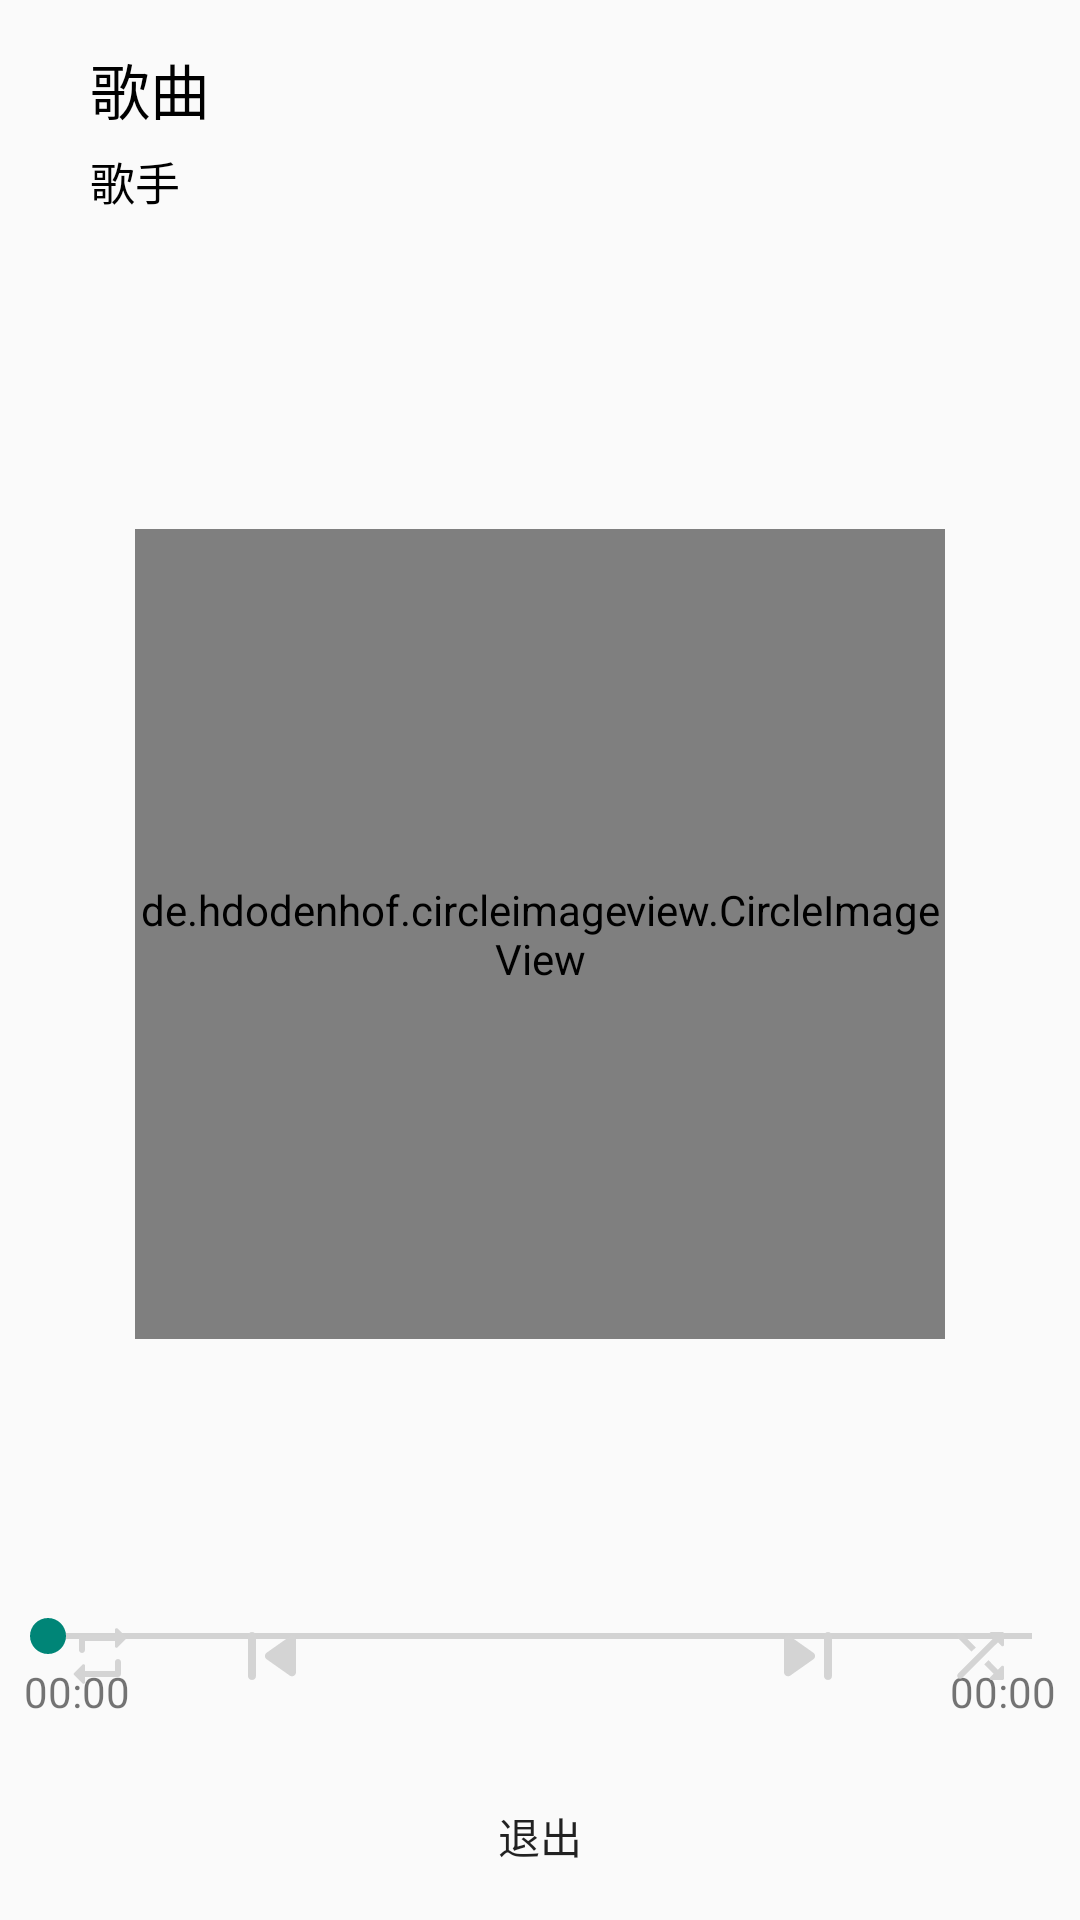

Screen size 1080 × 1920. Icon name, then its box in pixels as (x1, y1, x2, y2):
上一首: (224, 1632, 320, 1680)
下一首: (760, 1632, 856, 1680)
循环: (64, 1628, 136, 1692)
随机: (944, 1632, 1016, 1692)
